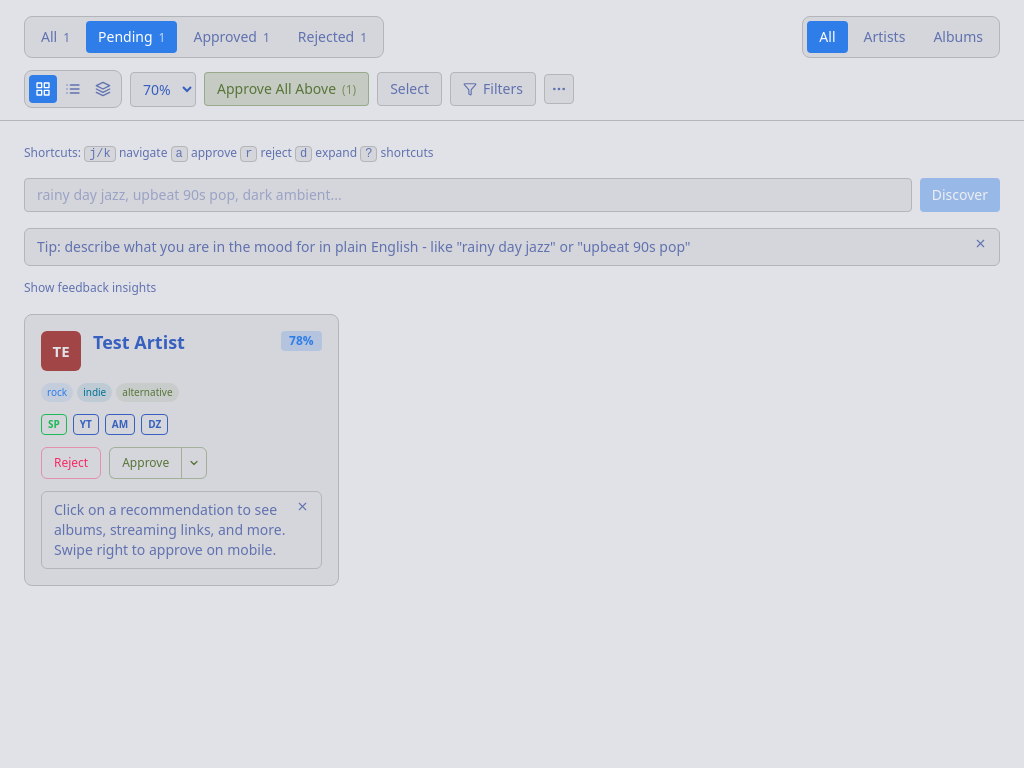
Scenario: DiscoverPage › offers popular albums from the approve dropdown
The width and height of the screenshot is (1024, 768).
Expected: the heading "Test Artist" is shown, top-left (93, 331), bottom-right (185, 354)
Click the button named "Monitoring options". click: x=194, y=463
box: top-left (181, 447), bottom-right (207, 479)
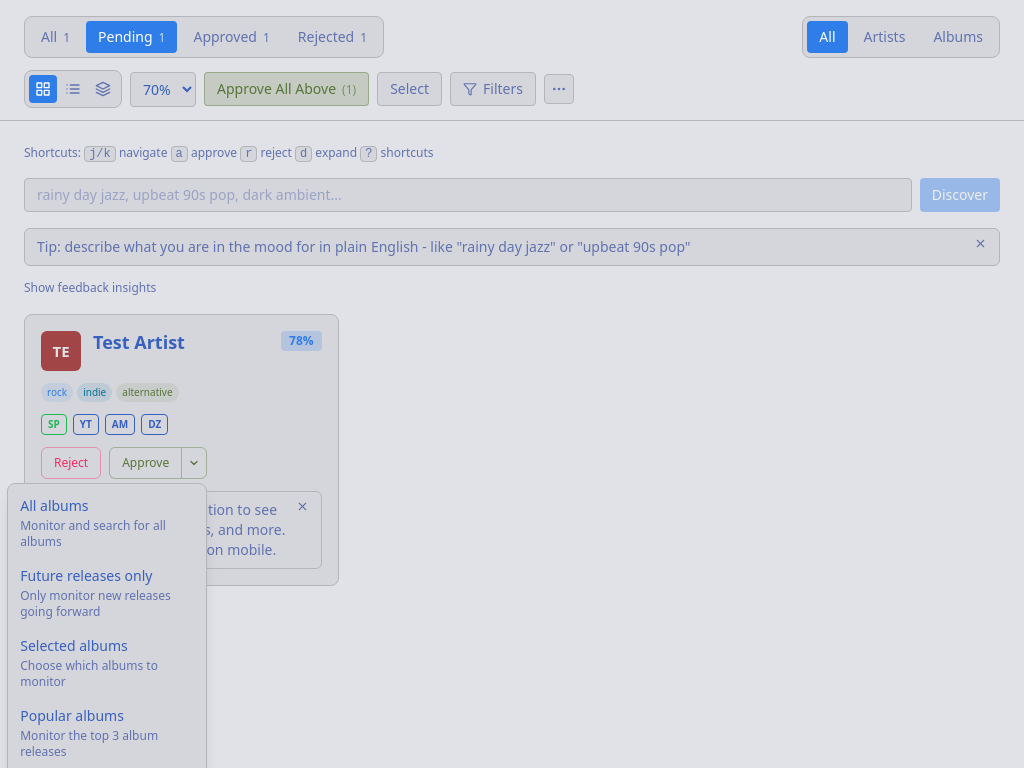
Expected: the text "Popular albums" is shown, top-left (20, 706), bottom-right (124, 725)
